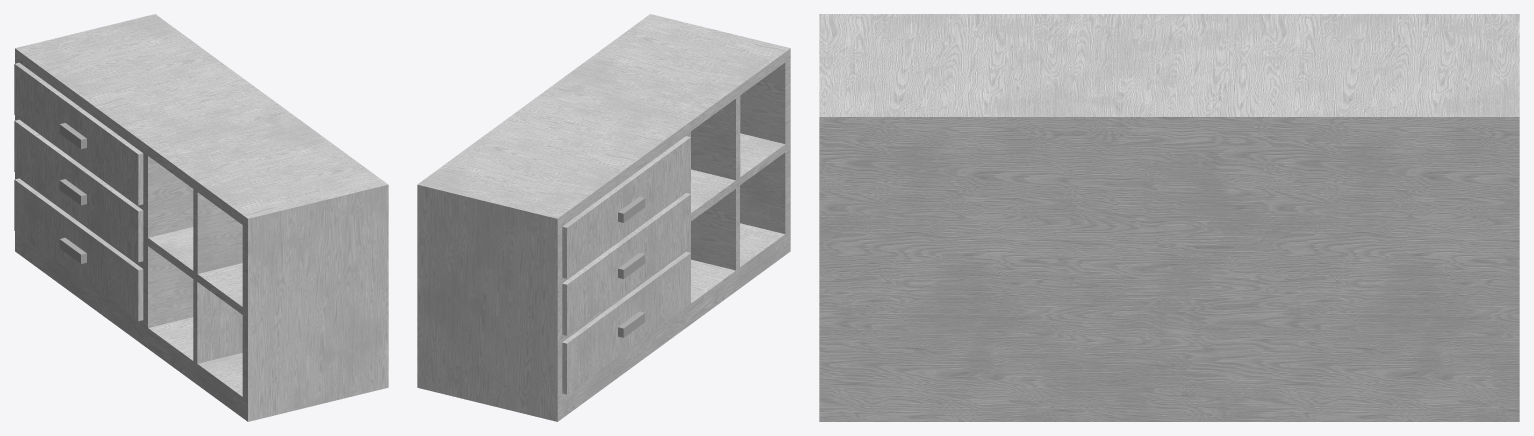
The model's file is Drawer.fbx.
The picture shows the model from 3 angles, left to right: view 1: azimuth 30°, elevation 25°; view 2: azimuth 150°, elevation 25°; view 3: azimuth 270°, elevation 25°; orthographic projection. The views are drawn at different scales.
Parts seen in each view (by area): view 1: Drawer, Drawer_Handles; view 2: Drawer, Drawer_Handles; view 3: Drawer.
Part boxes in pixels (<box>): Drawer: <box>14,14,388,421</box>; Drawer_Handles: <box>59,123,86,263</box>; Drawer: <box>417,14,790,421</box>; Drawer_Handles: <box>618,196,645,337</box>; Drawer: <box>819,14,1519,421</box>.
Size of the model in its own units: 1146 by 1471 by 3060.
Materials: 2 (2 with a texture image).
